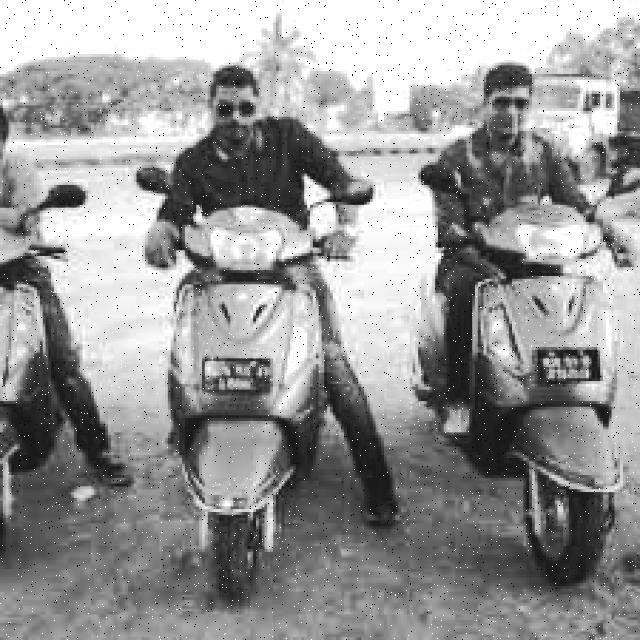Bike: (135, 172, 377, 586), (415, 179, 639, 584)
